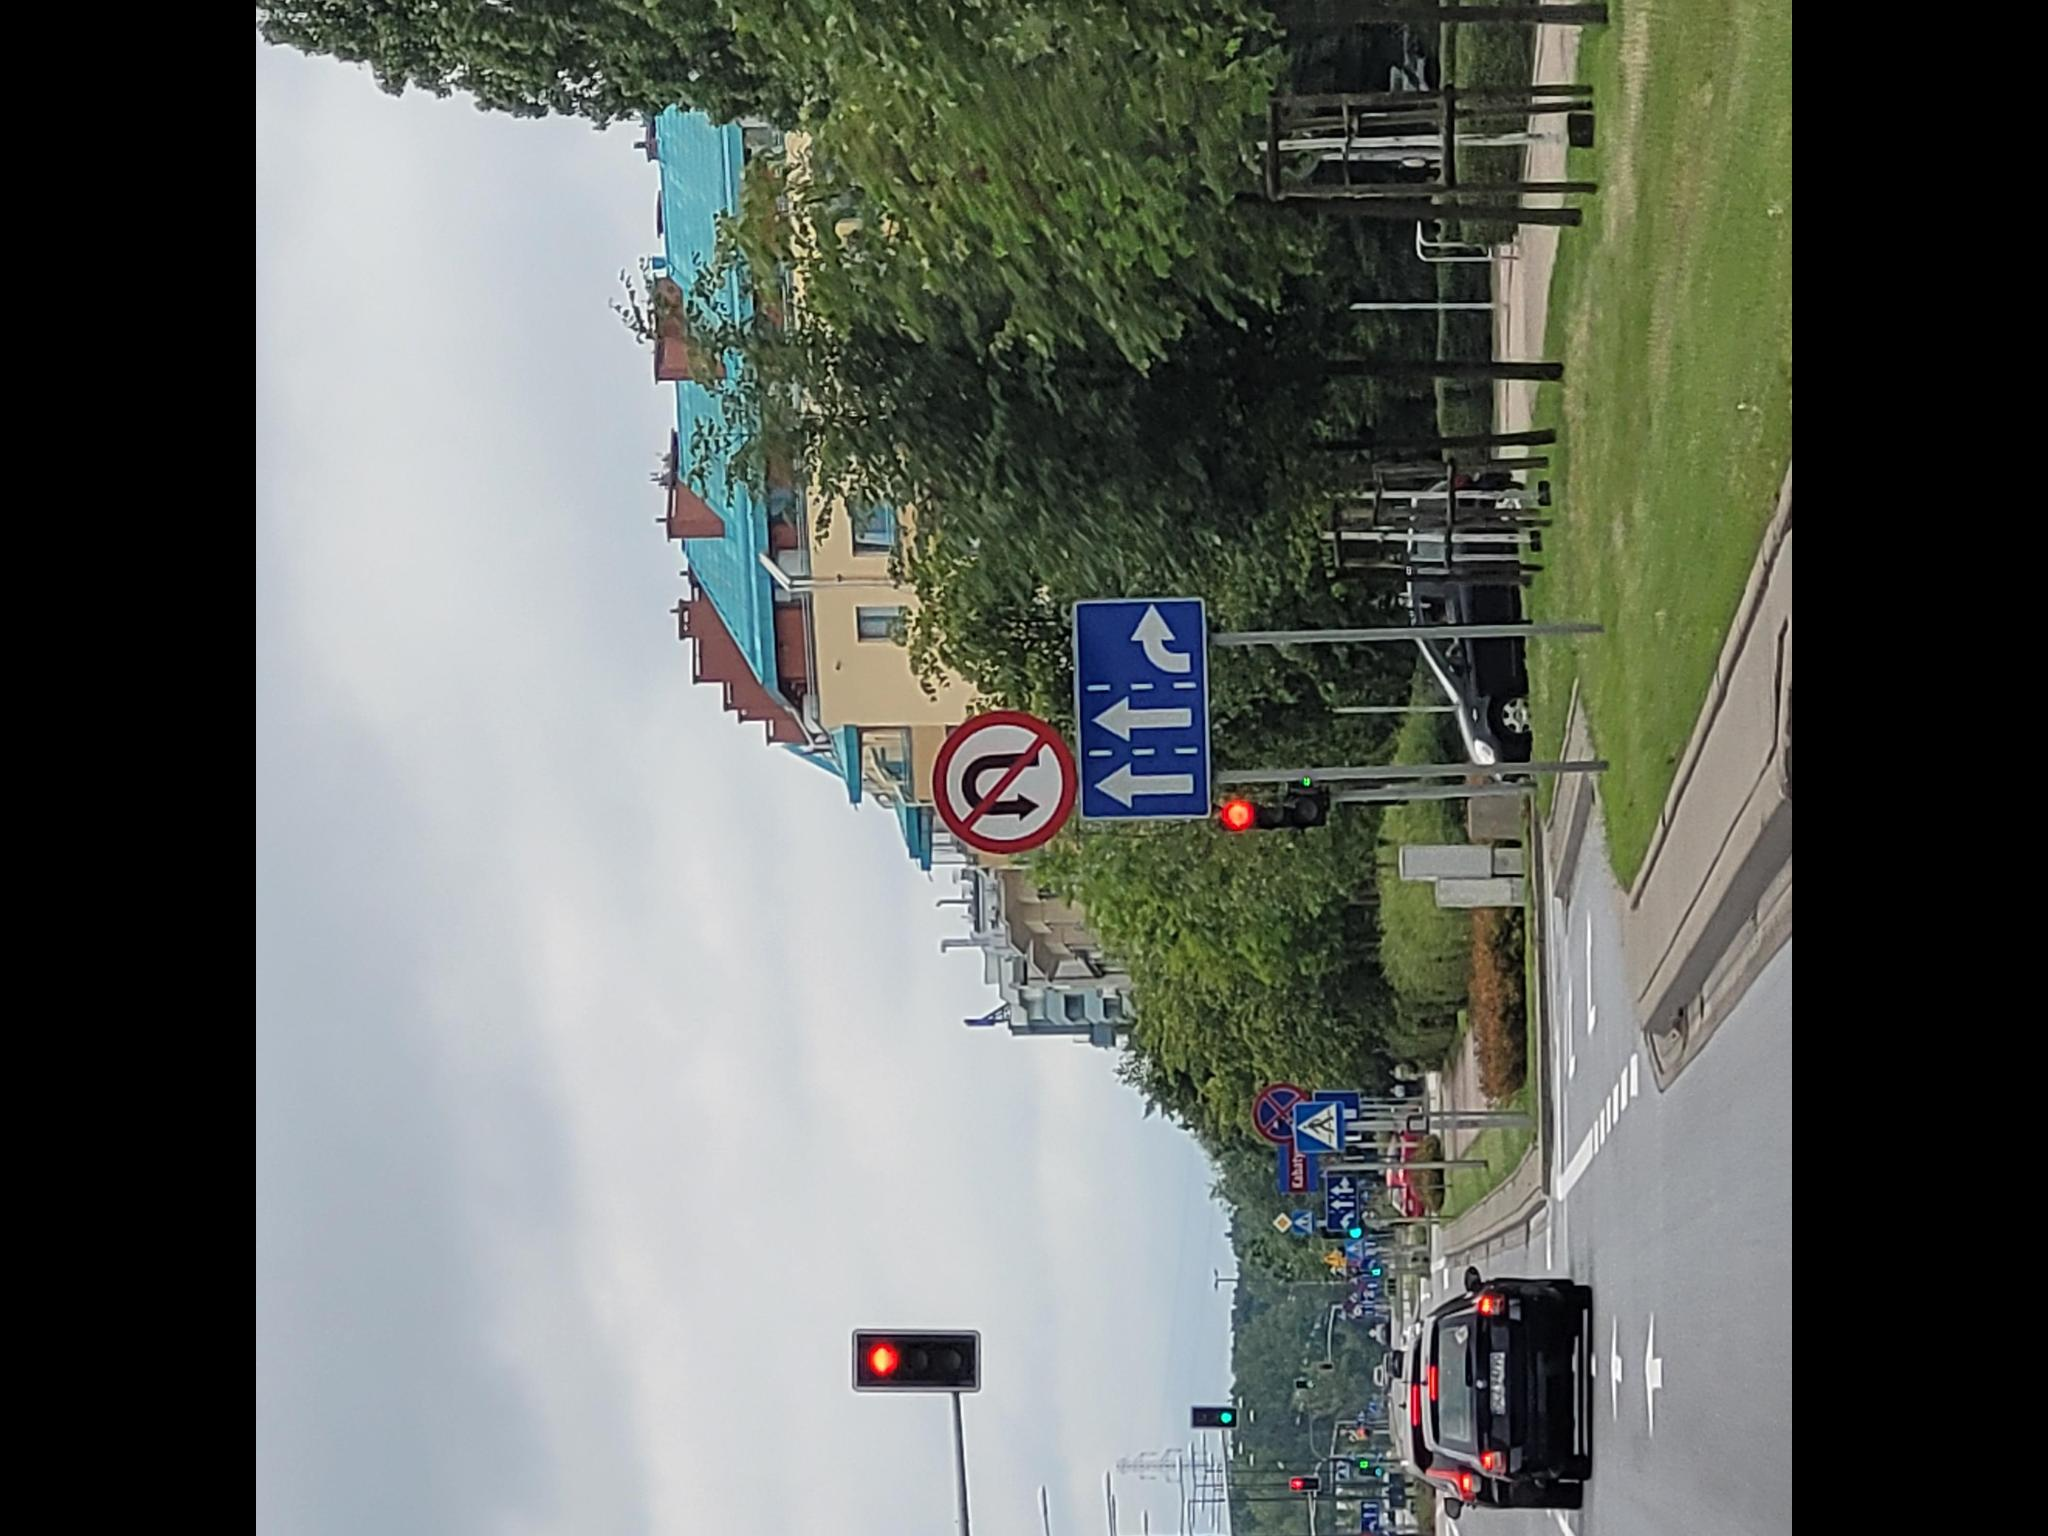information: (1293, 1099, 1343, 1154), (1292, 1207, 1316, 1234), (1343, 1236, 1366, 1260), (1272, 1208, 1293, 1234)
other: (1072, 591, 1216, 821), (1279, 1128, 1317, 1192), (1326, 1171, 1359, 1231), (1359, 1497, 1380, 1536)
prohibitory: (929, 705, 1079, 857), (1253, 1081, 1314, 1142)
warning: (1322, 1249, 1342, 1265)
